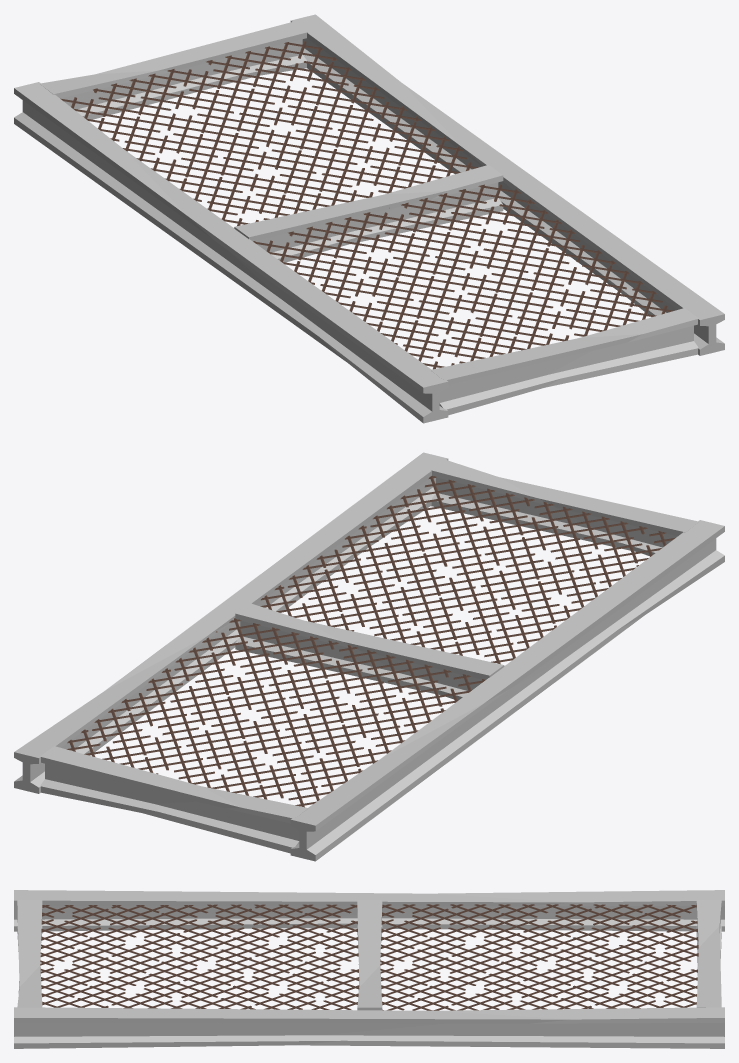
The model's file is SM_Bld_IndustrialWalkway_x2_01.fbx.
3 renders of one model, top to bottom at view 1: azimuth 30°, elevation 25°; view 2: azimuth 150°, elevation 25°; view 3: azimuth 270°, elevation 25°, orthographic. The views are drawn at different scales.
Parts seen in each view (by area): view 1: SM_Bld_IndustrialWalkway_x2_01; view 2: SM_Bld_IndustrialWalkway_x2_01; view 3: SM_Bld_IndustrialWalkway_x2_01.
Part boxes in pixels (x1,y1,x2,y2): SM_Bld_IndustrialWalkway_x2_01: [14, 14, 724, 423]; SM_Bld_IndustrialWalkway_x2_01: [14, 452, 724, 861]; SM_Bld_IndustrialWalkway_x2_01: [14, 890, 724, 1048].
Size of what is drawn, in the model's own units: 251 by 28.52 by 591.
